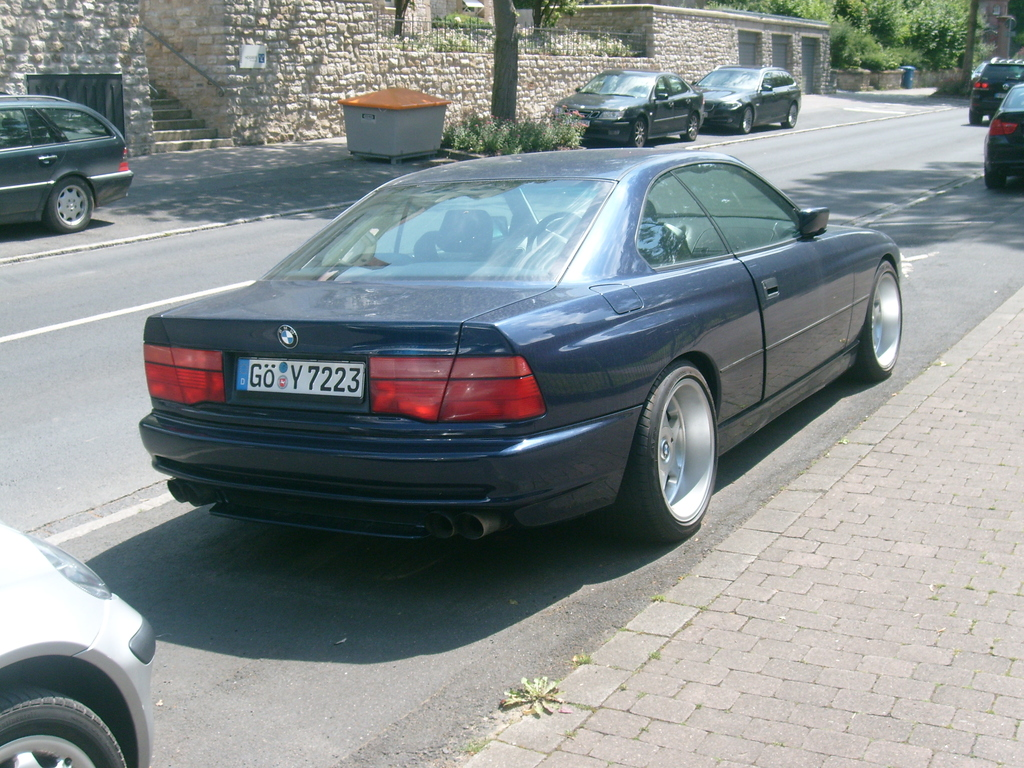Car: (130, 144, 905, 540), (0, 517, 156, 767), (0, 90, 133, 231), (549, 65, 699, 150), (687, 62, 801, 135), (979, 78, 1023, 193)
